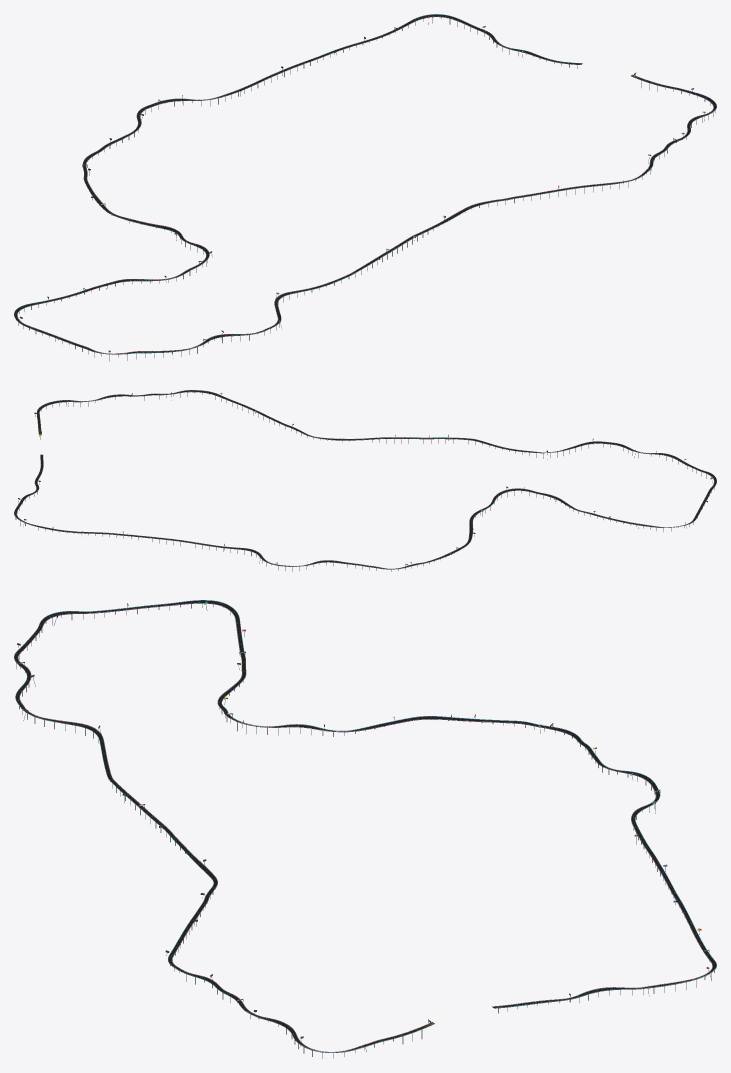
The model's file is track.glb.
The picture shows the model from 3 angles, top to bottom: view 1: azimuth 30°, elevation 25°; view 2: azimuth 150°, elevation 25°; view 3: azimuth 270°, elevation 25°; orthographic projection. The views are drawn at different scales.
Visible parts, largest first — view 1: track_surface, track_barriers, track_under, pylons; view 2: track_surface, track_barriers, pylons, track_under; view 3: track_surface, track_barriers, track_under, pylons.
Part boxes in pixels (x1,y1,x2,y2): track_surface: [14, 14, 716, 353]; track_barriers: [14, 14, 716, 354]; track_under: [14, 14, 716, 354]; pylons: [17, 17, 715, 361]; track_surface: [14, 390, 716, 569]; track_barriers: [14, 390, 716, 569]; pylons: [15, 392, 714, 571]; track_under: [14, 392, 715, 569]; track_surface: [14, 600, 716, 1052]; track_barriers: [14, 600, 716, 1052]; track_under: [14, 600, 716, 1052]; pylons: [16, 602, 714, 1058].
Size of the model in its own units: 3991 by 81.1 by 2622.
Materials: 74 (55 with a texture image).
